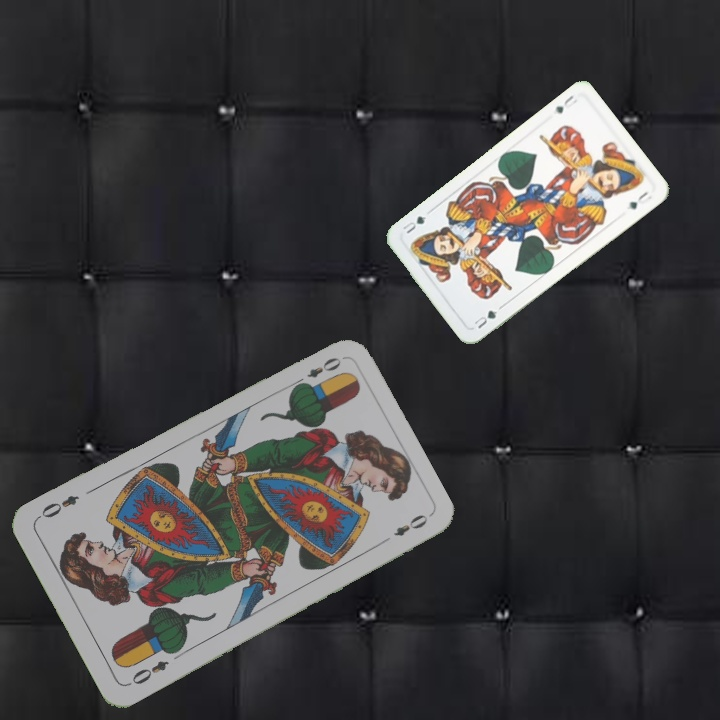EO: (290, 353, 344, 389), (124, 656, 172, 689)
GU: (469, 306, 500, 331), (550, 91, 580, 116)
